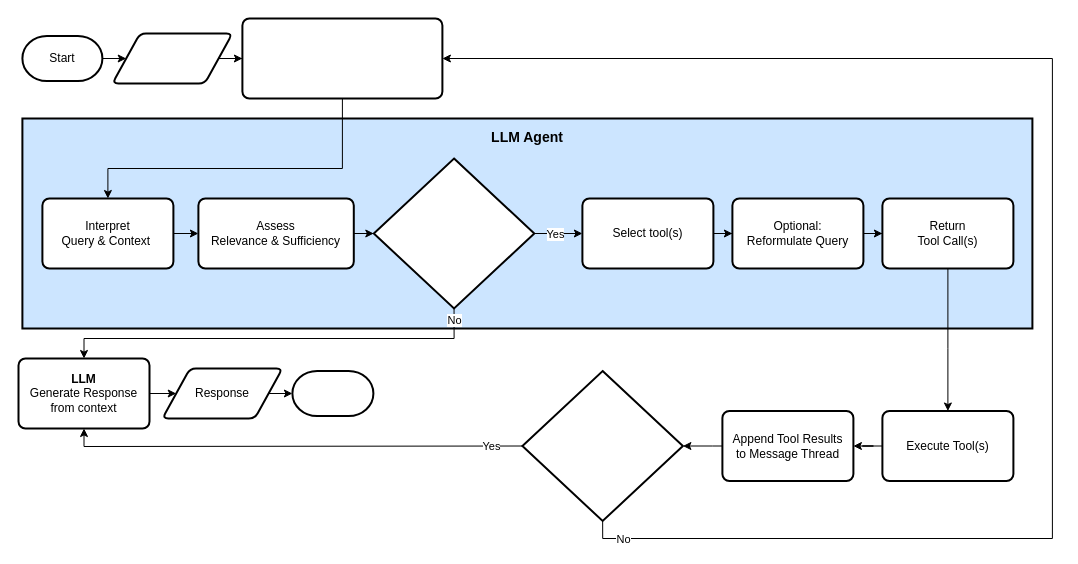
Some shapes in this 1078 by 564 pixel diagram are drawn without their labels. Here are the shapes that lost their labels. From the top down, the box of each, then its label:
(111, 32, 233, 84): Query
(241, 17, 443, 99): Build Message Thread Prompt + Query + Tool Results + Conversation History
(372, 157, 535, 309): Do I need more context?
(291, 370, 374, 416): End
(521, 370, 683, 522): Loop limit reached?
